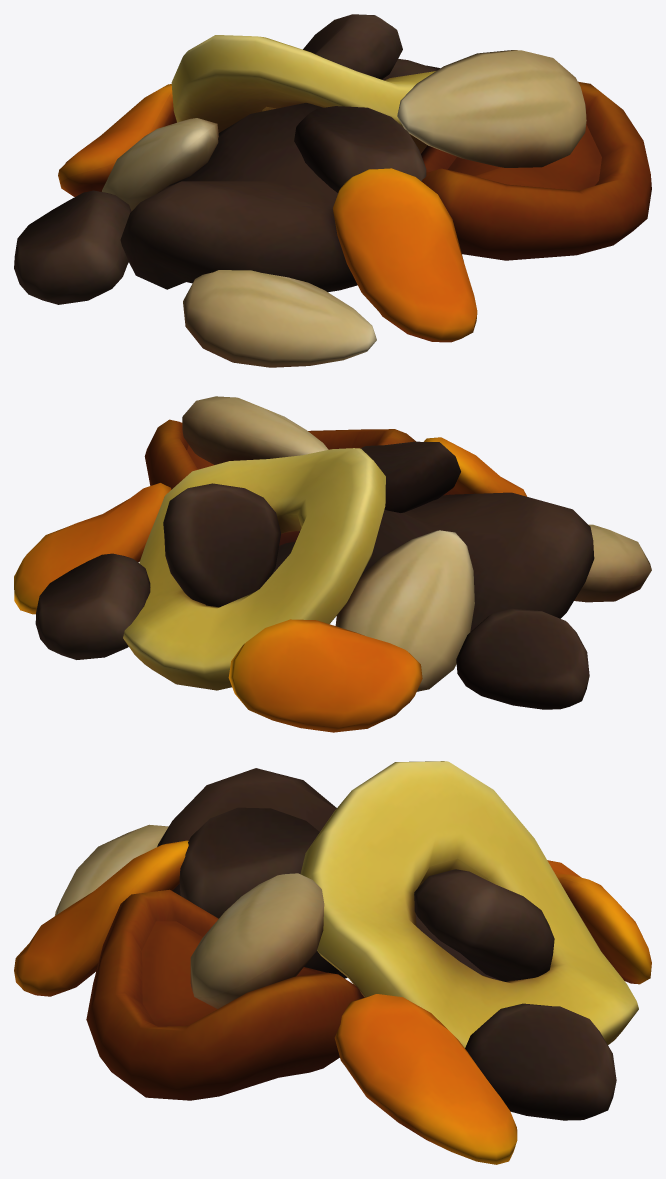
File: m_ingredients_driedfruit_01.fbx
3 views of the same model, one above another, from view 1: azimuth 30°, elevation 25°; view 2: azimuth 150°, elevation 25°; view 3: azimuth 270°, elevation 25° (orthographic). The views are drawn at different scales.
Visible parts, largest first — view 1: m_ingredients_driedfruit_01; view 2: m_ingredients_driedfruit_01; view 3: m_ingredients_driedfruit_01.
Boxes of the visible parts, box(x1,y1,x2,y2) form: m_ingredients_driedfruit_01: box(14, 14, 651, 367); m_ingredients_driedfruit_01: box(14, 396, 651, 732); m_ingredients_driedfruit_01: box(14, 761, 651, 1164).
Size of the model in its own units: 116 by 40.53 by 100.
